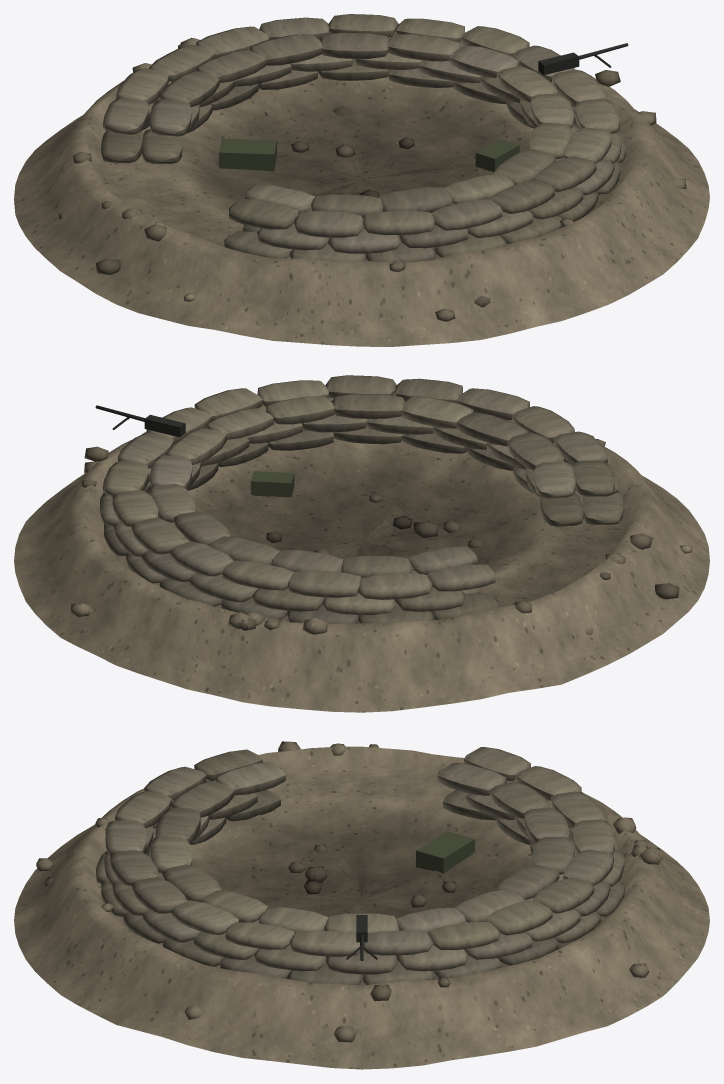
File: b10_sandbag_post.glb
3 views of the same model, one above another, from view 1: azimuth 30°, elevation 25°; view 2: azimuth 150°, elevation 25°; view 3: azimuth 270°, elevation 25° (orthographic).
Visible parts, largest first — view 1: b10_sandbag_post; view 2: b10_sandbag_post; view 3: b10_sandbag_post.
Boxes of the visible parts, left/top/right/bottom form: b10_sandbag_post: left=14, top=14, right=709, bottom=346; b10_sandbag_post: left=14, top=375, right=709, bottom=712; b10_sandbag_post: left=14, top=741, right=709, bottom=1069.
Bounding box in the file's own units: 1 × 0.153 × 1.
Materials: 3 (2 with a texture image).
